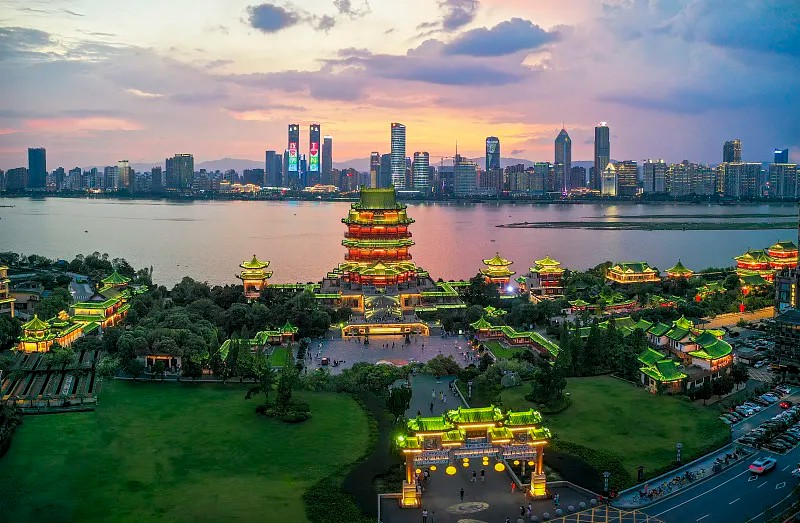Teng: (327, 187, 427, 283)
